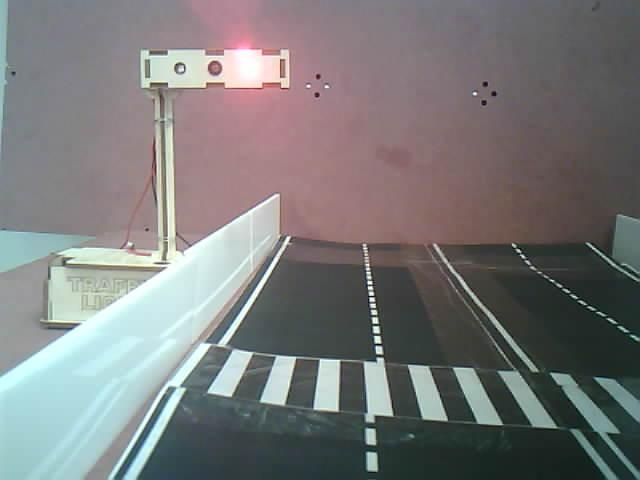crosswalk: (142, 339, 640, 438)
red: (121, 37, 300, 207)
